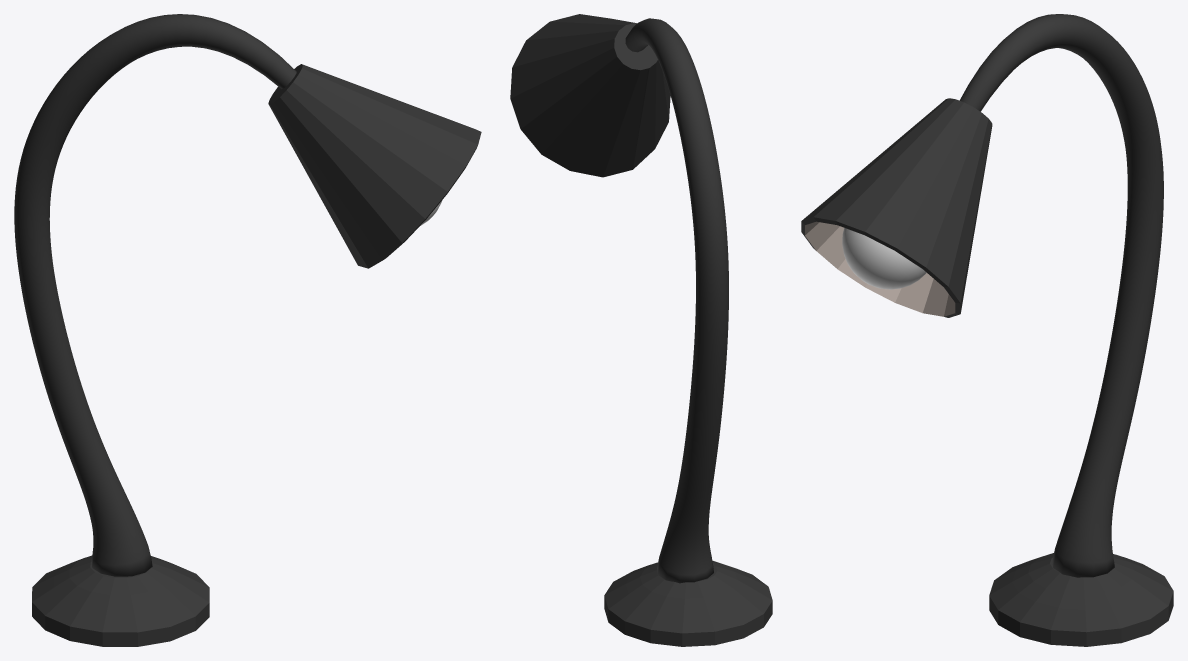
File: Room_Lamp.fbx
3 renders of one model, left to right at view 1: azimuth 30°, elevation 25°; view 2: azimuth 150°, elevation 25°; view 3: azimuth 270°, elevation 25°, orthographic. The views are drawn at different scales.
Visible parts, largest first — view 1: Cylinder.005; view 2: Cylinder.005; view 3: Cylinder.005.
Boxes of the visible parts, box(x1,y1,x2,y2) form: Cylinder.005: box(14, 14, 481, 646); Cylinder.005: box(510, 14, 772, 646); Cylinder.005: box(801, 14, 1173, 646).
Bounding box in the file's own units: 0.219 × 0.2015 × 0.3645.
